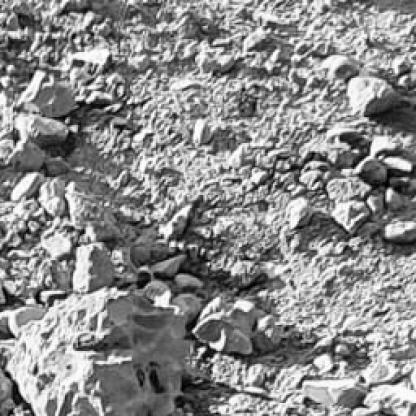cementitious_debris: (0, 2, 413, 413)
